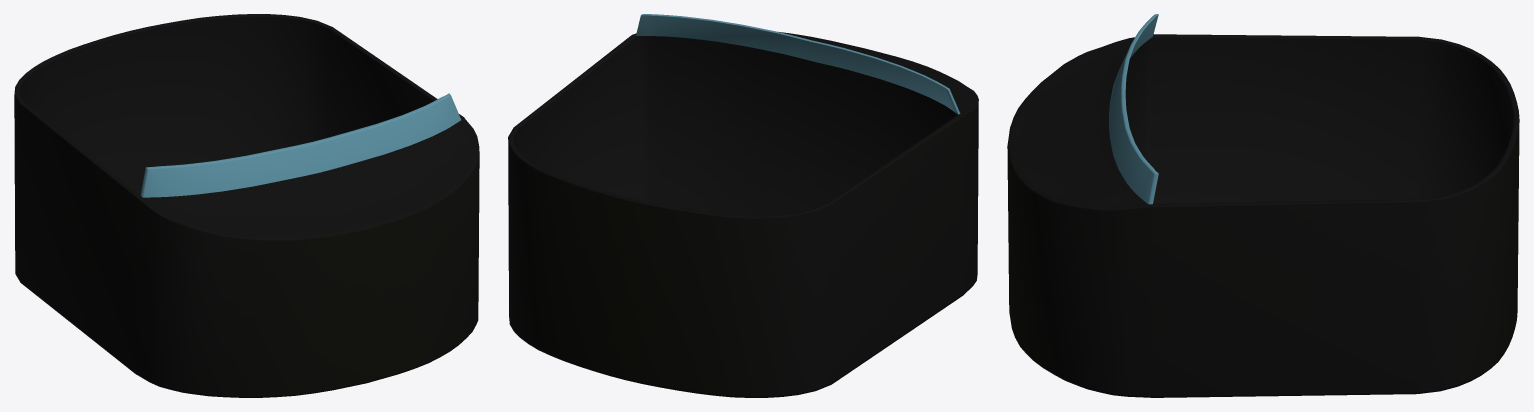
The model's file is Vehicle1.glb.
3 renders of one model, left to right at view 1: azimuth 30°, elevation 25°; view 2: azimuth 150°, elevation 25°; view 3: azimuth 270°, elevation 25°, orthographic. The views are drawn at different scales.
Parts seen in each view (by area): view 1: Car1; view 2: Car1; view 3: Car1.
Part boxes in pixels (x1,y1,x2,y2): Car1: (14,14,479,397); Car1: (508,14,978,397); Car1: (1007,14,1519,397).
Size of the model in its own units: 0.4123 by 0.2447 by 0.517.
